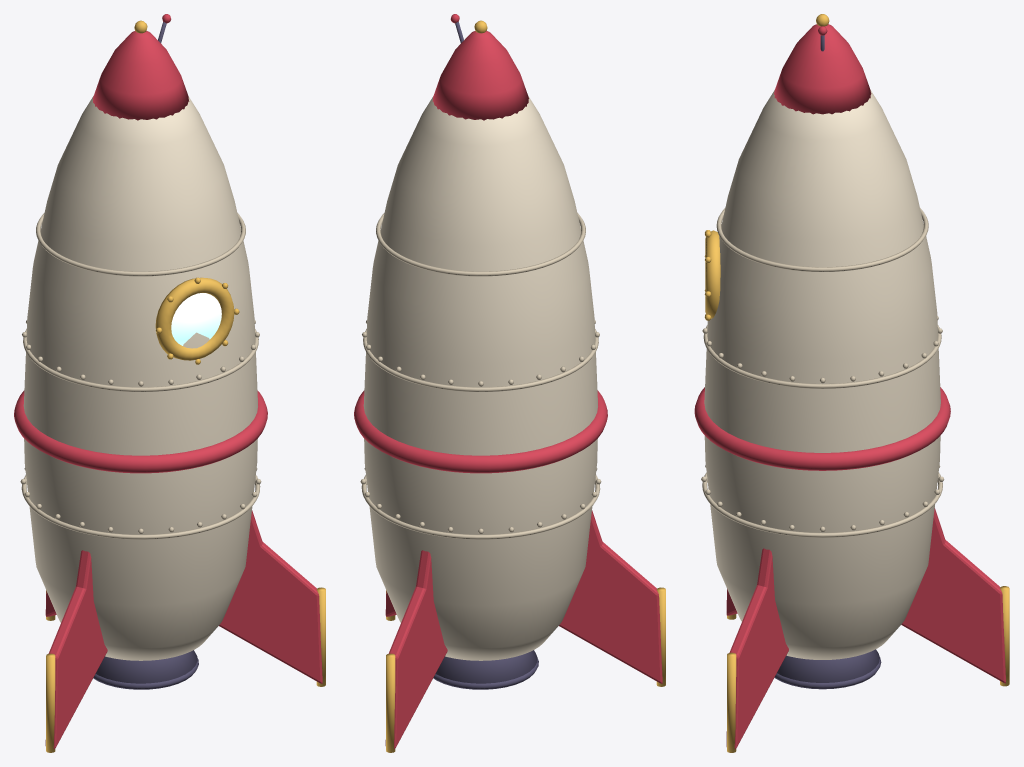
File: rocket.glb
3 renders of one model, left to right at view 1: azimuth 30°, elevation 25°; view 2: azimuth 150°, elevation 25°; view 3: azimuth 270°, elevation 25°, orthographic.
Parts seen in each view (by area): view 1: moon-rocket.001; view 2: moon-rocket.001; view 3: moon-rocket.001.
Part boxes in pixels (x1,y1,x2,y2): moon-rocket.001: (14, 14, 325, 752); moon-rocket.001: (354, 14, 665, 752); moon-rocket.001: (694, 14, 1009, 752).
Bounding box in the file's own units: 2.38 × 5.42 × 2.31.
